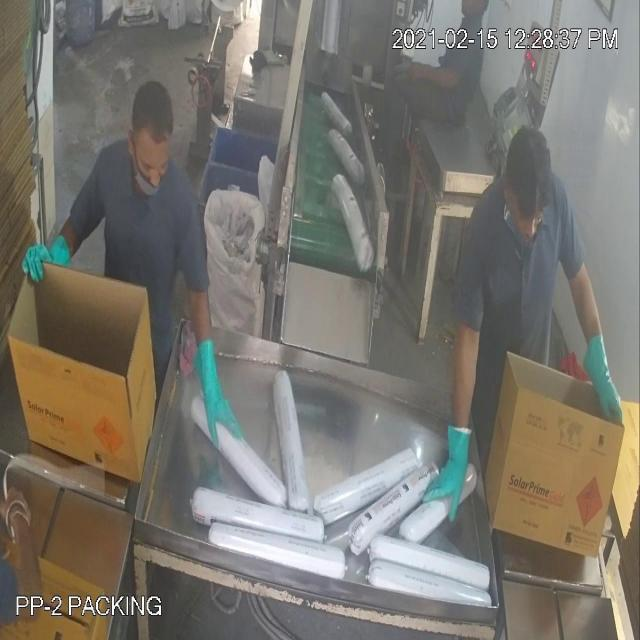Gloves: (42, 50, 602, 468)
